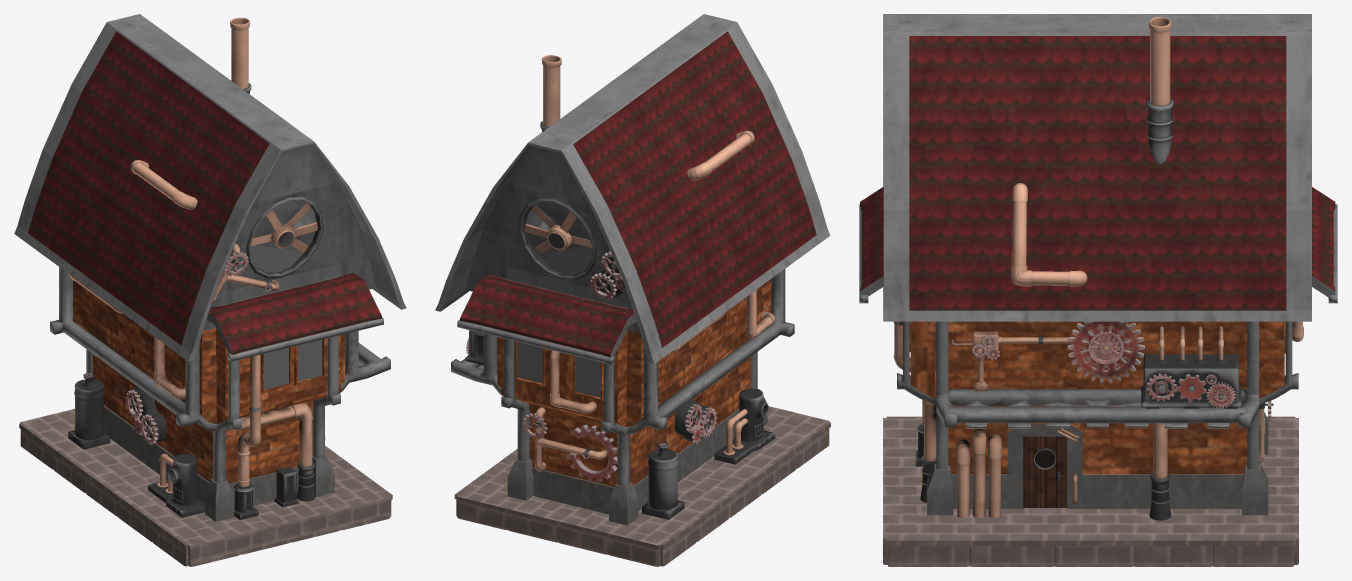
The model's file is steampunk_house.glb.
3 renders of one model, left to right at view 1: azimuth 30°, elevation 25°; view 2: azimuth 150°, elevation 25°; view 3: azimuth 270°, elevation 25°, orthographic. The views are drawn at different scales.
Parts seen in each view (by area): view 1: roof, ground, frame, second_floor, base_floor, machines, pipes, windows, cogs; view 2: roof, ground, frame, second_floor, base_floor, machines, pipes, windows, cogs; view 3: roof, ground, base_floor, frame, second_floor, pipes, machines, cogs.
Boxes of the visible parts, box(x1,y1,x2,y2) form: roof: box(14, 14, 406, 361); ground: box(19, 409, 392, 566); frame: box(50, 267, 390, 521); second_floor: box(73, 280, 344, 423); base_floor: box(93, 354, 313, 505); machines: box(68, 17, 298, 517); pipes: box(69, 160, 325, 519); windows: box(250, 200, 317, 272); cogs: box(85, 251, 272, 444); roof: box(435, 14, 830, 363); ground: box(454, 406, 830, 566); frame: box(451, 269, 794, 525); second_floor: box(497, 279, 771, 427); base_floor: box(529, 357, 750, 514); machines: box(465, 55, 775, 519); pipes: box(532, 130, 775, 471); windows: box(524, 202, 592, 274); cogs: box(466, 251, 717, 482); roof: box(860, 14, 1335, 321); ground: box(883, 416, 1298, 566); base_floor: box(948, 405, 1247, 508); frame: box(859, 204, 1337, 515); second_floor: box(909, 321, 1285, 398); pipes: box(893, 183, 1303, 520); machines: box(923, 17, 1241, 454); cogs: box(972, 321, 1271, 421).
Size of the model in its own units: 530 by 939 by 782.
13 materials, 13 textured.
